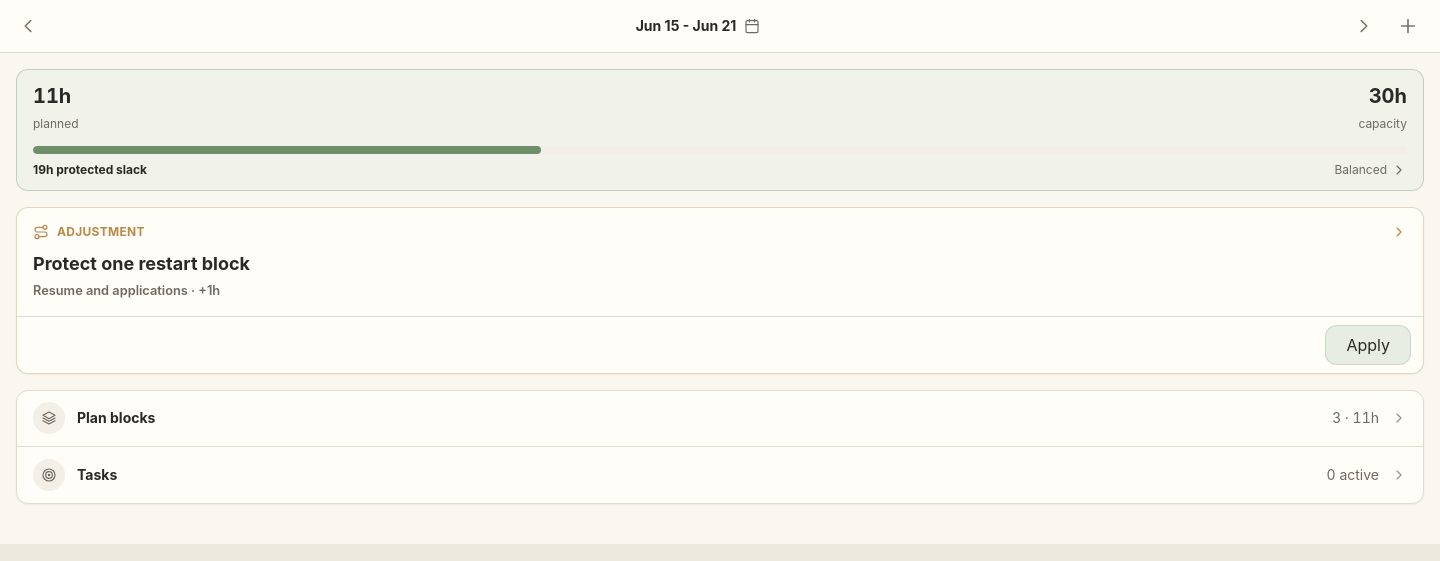
Test case: PlanScreen › applies the previewed adjustment directly from Level 1
Click the button with aria-label "Apply adjustment" at coordinates (1368, 345), box x1=1325 y1=325 x2=1411 y2=365
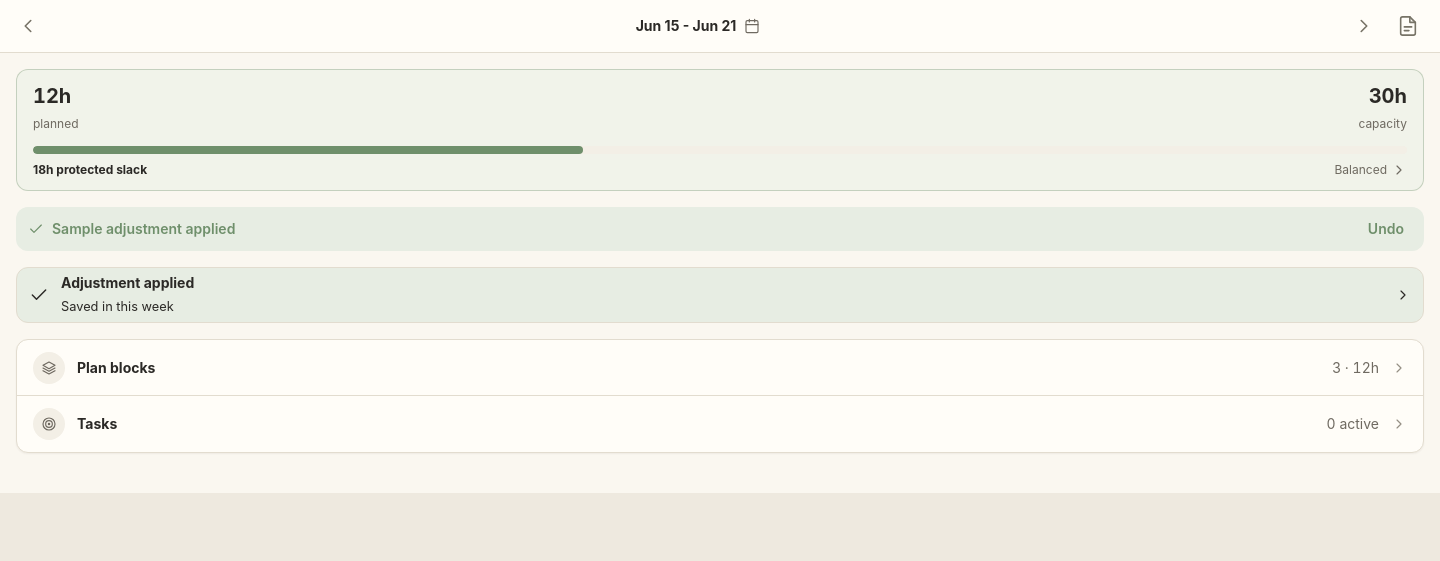
Expected: the message shows "Sample adjustment applied", x1=52 y1=220 x2=235 y2=237
Expected: the text "Adjustment applied" is shown, x1=61 y1=274 x2=194 y2=291
Expected: the button "Undo" is shown, x1=1360 y1=215 x2=1412 y2=243
